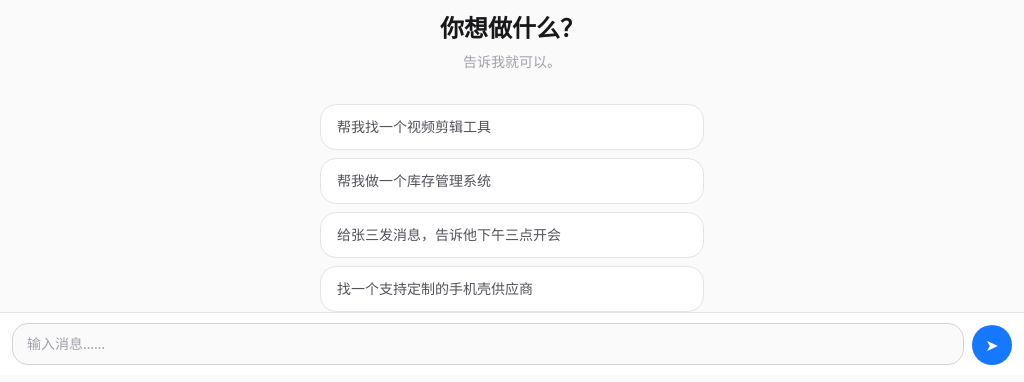
ChatHomeScreen (chat-first entry) › answers_a_search_intent_with_app_result_cards
The width and height of the screenshot is (1024, 382).
Expected: the text "你想做什么？" is shown, [440,12,584,44]
Click the button "帮我找一个视频剪辑工具": (414, 126) [320,104,704,150]
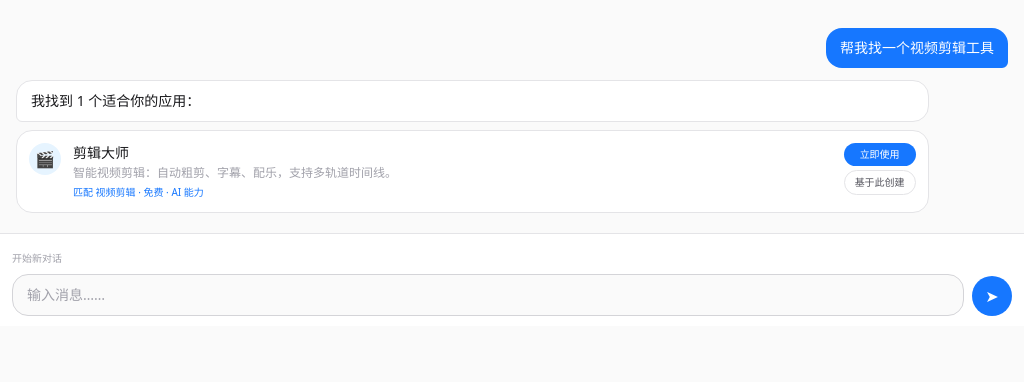
Now the text "我找到 1 个适合你的应用：" is shown, box [16,80,929,122]
Now the text "剪辑大师" is shown, box [73,143,129,162]
Now the button "立即使用" is shown, box [844,143,916,166]
